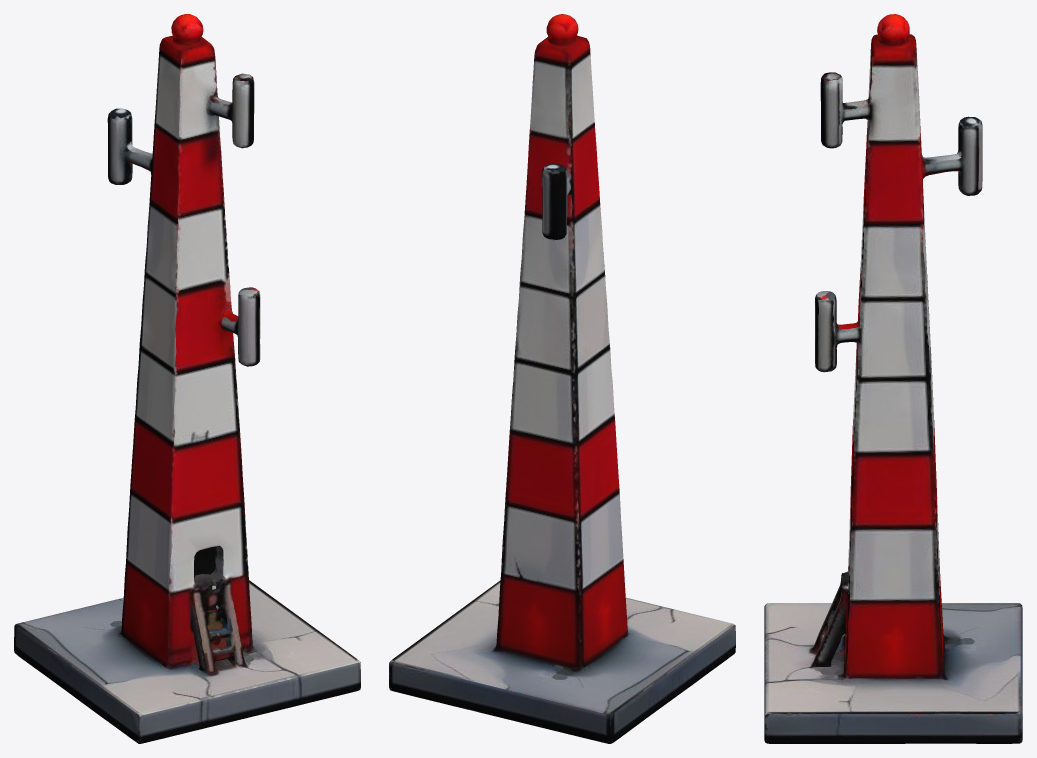
The model's file is radio_mast.glb.
3 views of the same model, side by side, from view 1: azimuth 30°, elevation 25°; view 2: azimuth 150°, elevation 25°; view 3: azimuth 270°, elevation 25° (orthographic). The views are drawn at different scales.
Parts seen in each view (by area): view 1: radio_mast3; view 2: radio_mast3; view 3: radio_mast3.
Part boxes in pixels (<box>): radio_mast3: <box>14,14,360,743</box>; radio_mast3: <box>389,14,735,743</box>; radio_mast3: <box>764,14,1022,743</box>.
Size of the model in its own units: 0.3562 by 1 by 0.3477.
Materials: 1 (1 with a texture image).
